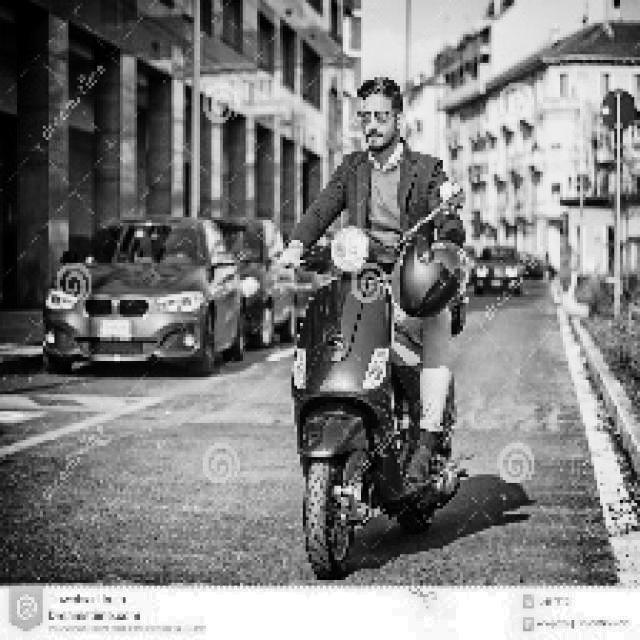Bike: (292, 219, 435, 579)
